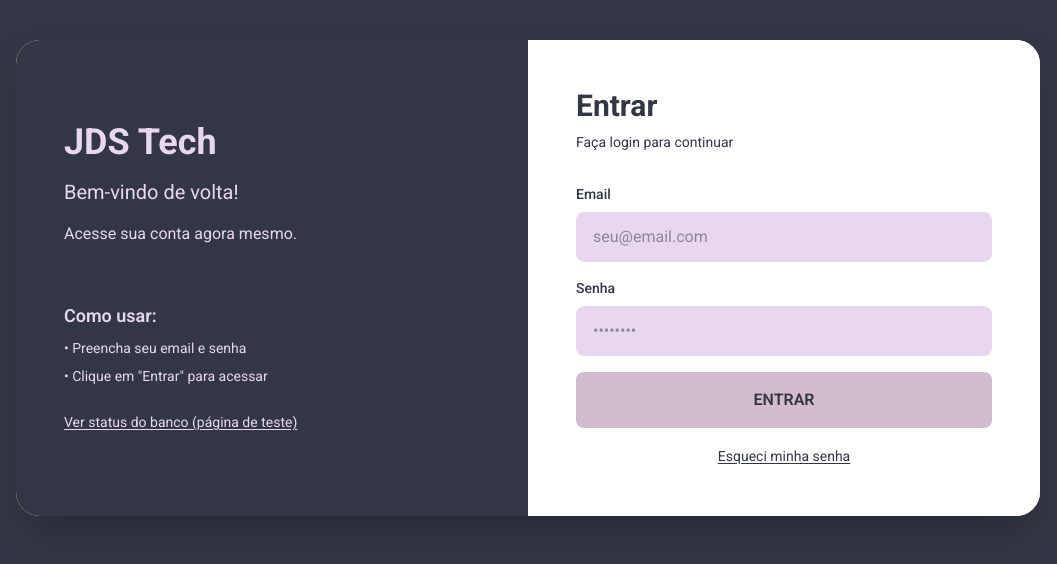
Test: LoginPage › Validação de Campos › deve mostrar erro quando email está vazio
Step 1. Click the button "ENTRAR" → (784, 400), box [576,372,992,428]
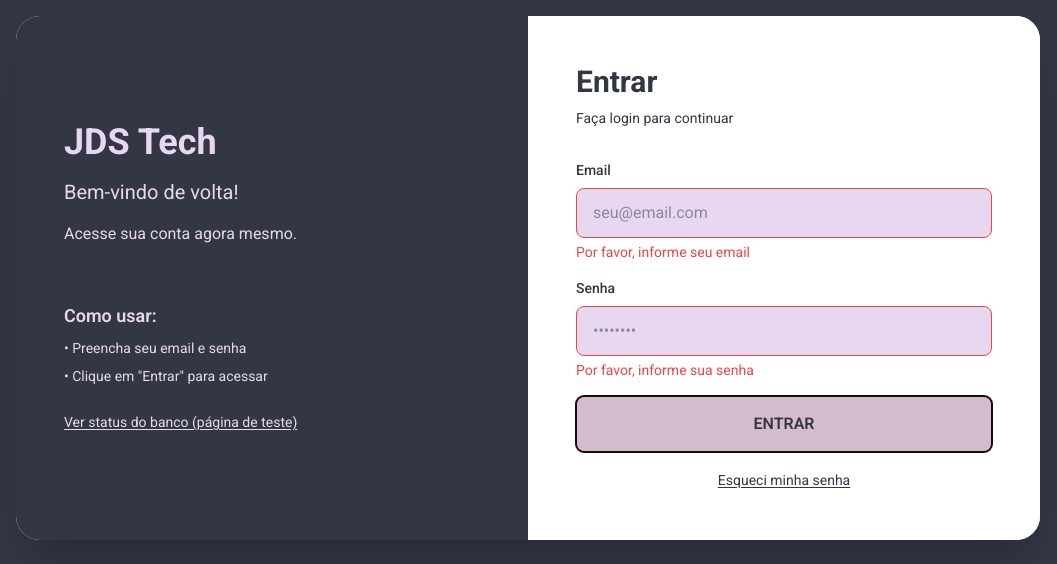
Now the text "Por favor, informe seu email" is shown, box [576,244,750,260]
